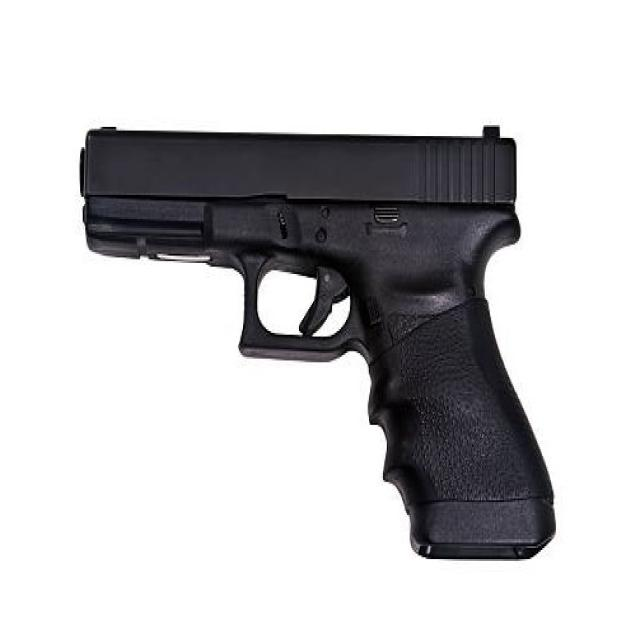pistol: (78, 119, 566, 567)
